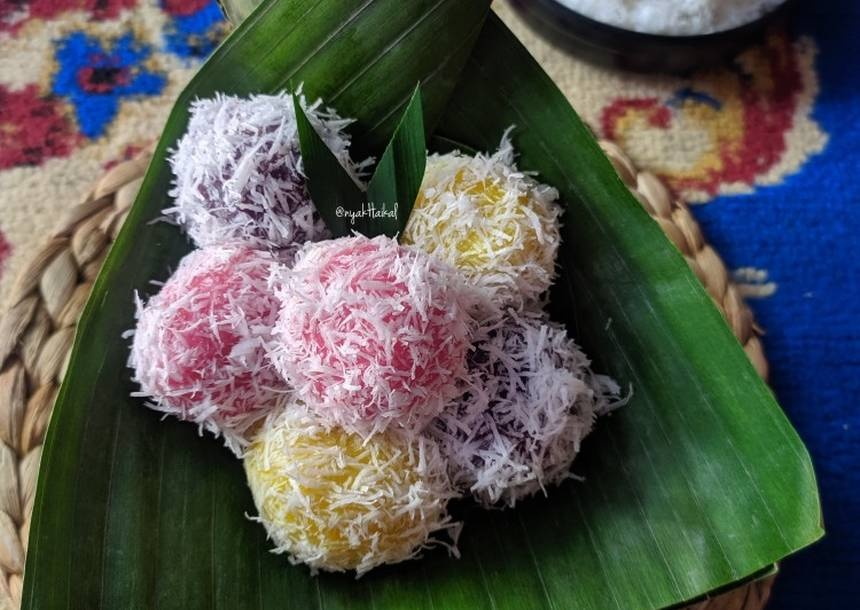klepon: (233, 227, 462, 447)
